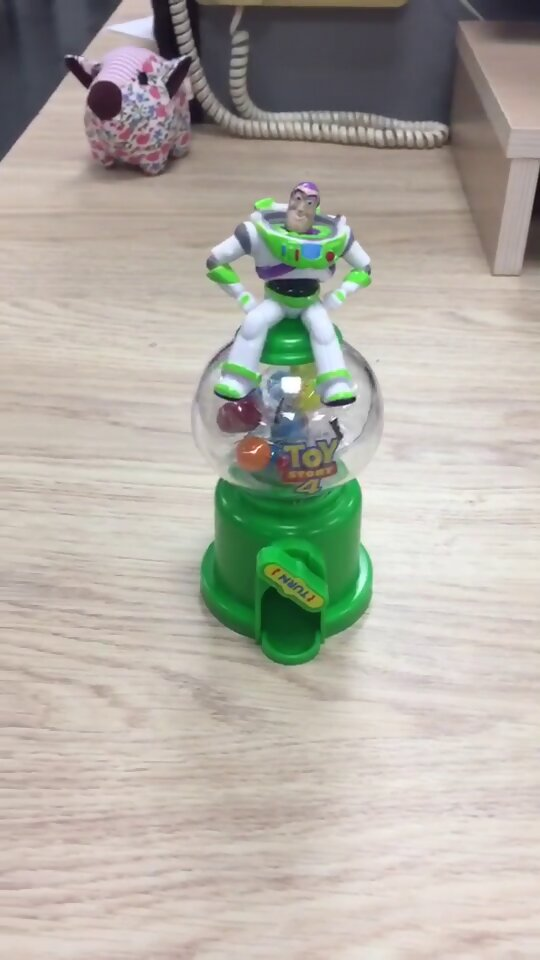buzz: (186, 178, 391, 669)
